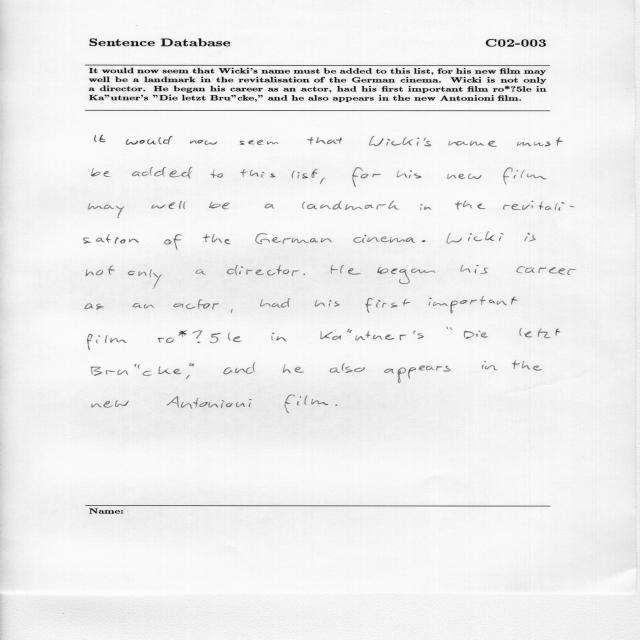word: (429, 297, 517, 314), (320, 329, 424, 341), (384, 365, 450, 383), (167, 396, 252, 409), (158, 330, 242, 343), (91, 364, 182, 376), (378, 267, 436, 284), (302, 201, 399, 210), (255, 233, 332, 244), (227, 265, 299, 276), (285, 395, 329, 413), (503, 167, 546, 185), (503, 201, 574, 211), (128, 270, 162, 290), (366, 298, 411, 313), (132, 167, 192, 178), (87, 334, 127, 350), (446, 232, 504, 243), (369, 136, 431, 146), (352, 167, 381, 187), (83, 234, 139, 244), (89, 203, 125, 218), (517, 266, 577, 275), (354, 235, 416, 243), (173, 300, 219, 310), (517, 137, 562, 147), (519, 328, 561, 338), (126, 136, 172, 145), (223, 363, 256, 375), (329, 363, 365, 373), (86, 265, 115, 276), (241, 169, 276, 178), (331, 265, 361, 275), (260, 298, 290, 308), (512, 361, 542, 371), (448, 141, 497, 147), (202, 234, 231, 244), (164, 234, 182, 250), (151, 201, 186, 209), (455, 201, 486, 210), (292, 169, 318, 179), (92, 401, 129, 408), (460, 265, 488, 274), (308, 137, 343, 144), (397, 170, 422, 179), (464, 330, 488, 339), (240, 140, 278, 145), (283, 364, 304, 373), (447, 174, 482, 179), (315, 300, 340, 307), (92, 168, 111, 177), (209, 202, 229, 210), (482, 361, 498, 370), (190, 140, 217, 145), (272, 333, 287, 342), (85, 303, 104, 310), (133, 303, 154, 309), (524, 233, 536, 242), (210, 170, 223, 178), (420, 204, 431, 211), (95, 135, 105, 142), (195, 270, 206, 275), (265, 204, 274, 209), (320, 178, 325, 184), (446, 327, 453, 330), (186, 375, 190, 380), (189, 363, 194, 366), (231, 309, 233, 313), (422, 240, 425, 242), (336, 404, 338, 406), (304, 273, 305, 275)
